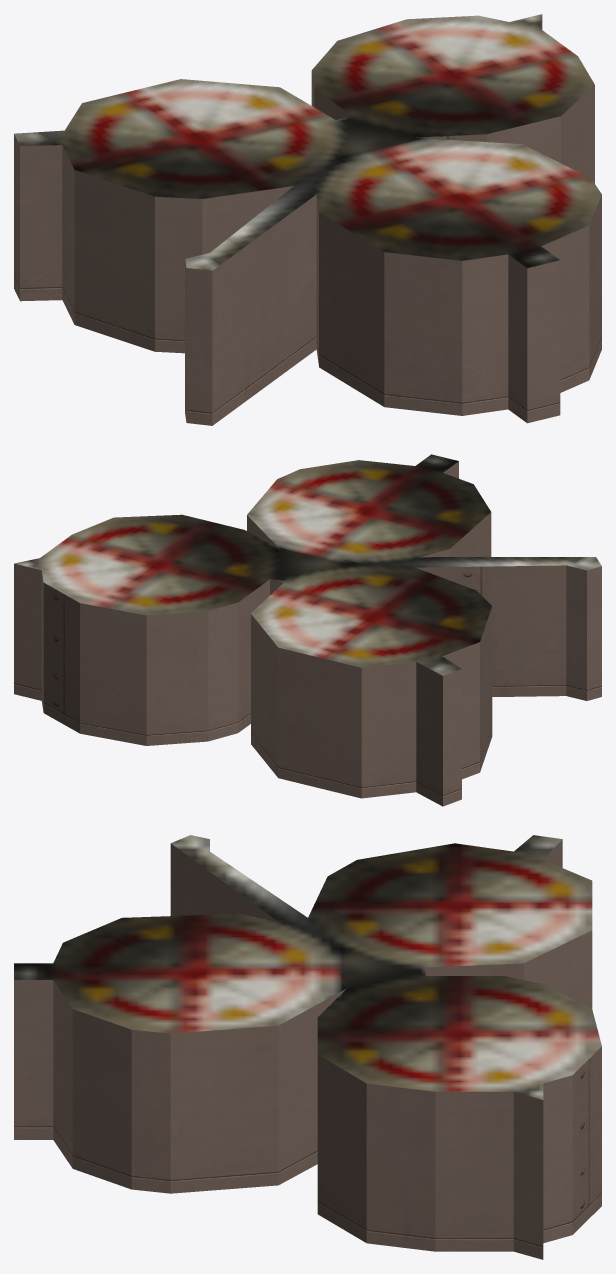
The model's file is fuel_tank_medium_58.glb.
3 renders of one model, top to bottom at view 1: azimuth 30°, elevation 25°; view 2: azimuth 150°, elevation 25°; view 3: azimuth 270°, elevation 25°, orthographic. The views are drawn at different scales.
Visible parts, largest first — view 1: buildings/saxarba/fuel_tanks/fuel_tank_medium_58; view 2: buildings/saxarba/fuel_tanks/fuel_tank_medium_58; view 3: buildings/saxarba/fuel_tanks/fuel_tank_medium_58.
Boxes of the visible parts, x1=… form: buildings/saxarba/fuel_tanks/fuel_tank_medium_58: x1=14, y1=14, x2=601, y2=425; buildings/saxarba/fuel_tanks/fuel_tank_medium_58: x1=14, y1=454, x2=601, y2=806; buildings/saxarba/fuel_tanks/fuel_tank_medium_58: x1=14, y1=835, x2=601, y2=1259.
Bounding box in the file's own units: 64 × 18 × 60.
